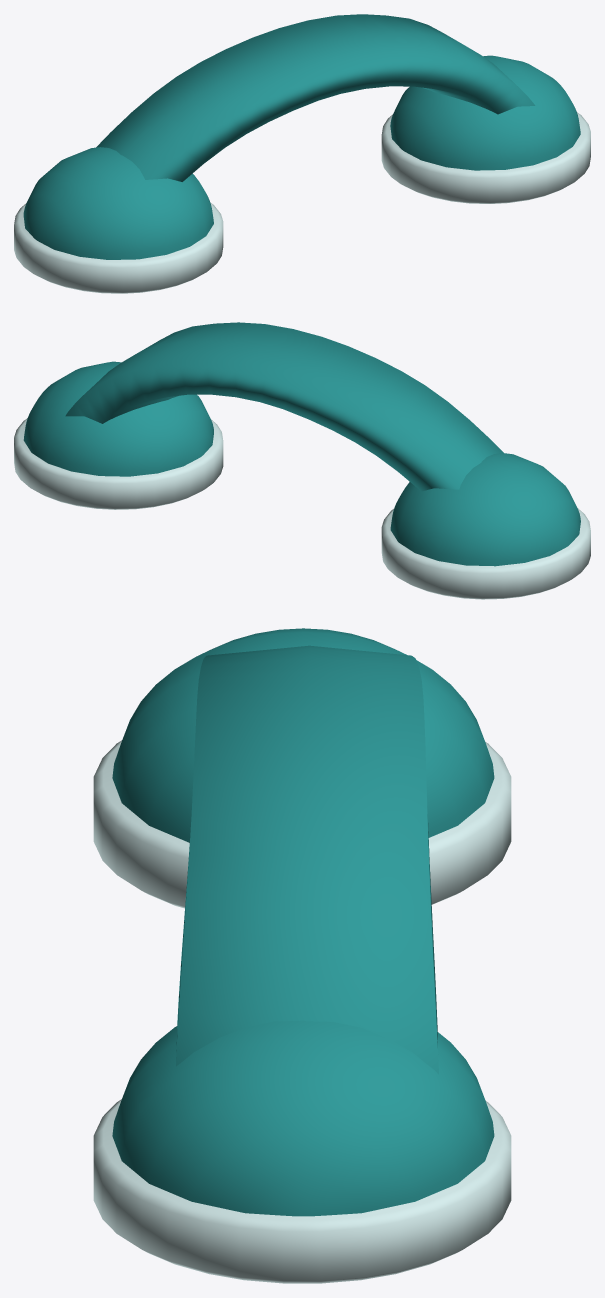
File: SM_Phone.FBX
3 renders of one model, top to bottom at view 1: azimuth 30°, elevation 25°; view 2: azimuth 150°, elevation 25°; view 3: azimuth 270°, elevation 25°, orthographic. The views are drawn at different scales.
Parts seen in each view (by area): view 1: SM_Phone; view 2: SM_Phone; view 3: SM_Phone.
Boxes of the visible parts, left/top/right/bottom form: SM_Phone: left=14, top=14, right=590, bottom=293; SM_Phone: left=14, top=322, right=590, bottom=599; SM_Phone: left=93, top=628, right=511, bottom=1283.
Size of what is drawn, in the model's own units: 4629 by 1260 by 1526.
